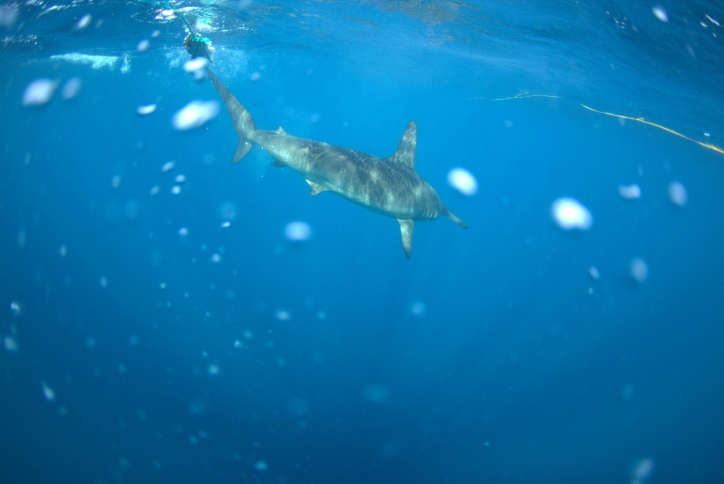Hammer: (176, 52, 476, 266)
